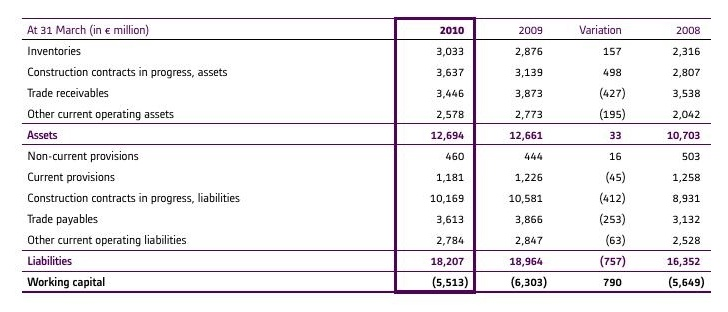table: (0, 0, 728, 312)
